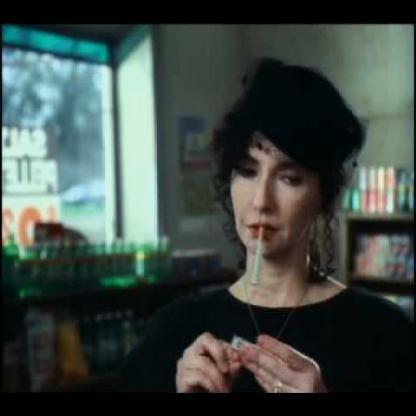cigarette: (249, 223, 267, 288)
person: (138, 67, 400, 413)
